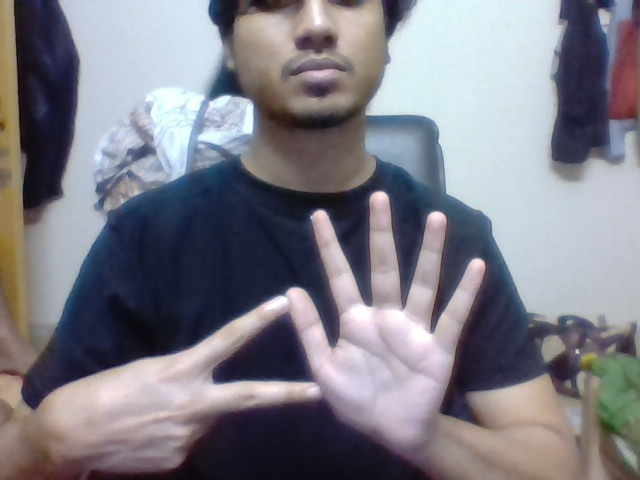N: (200, 288, 289, 421)
